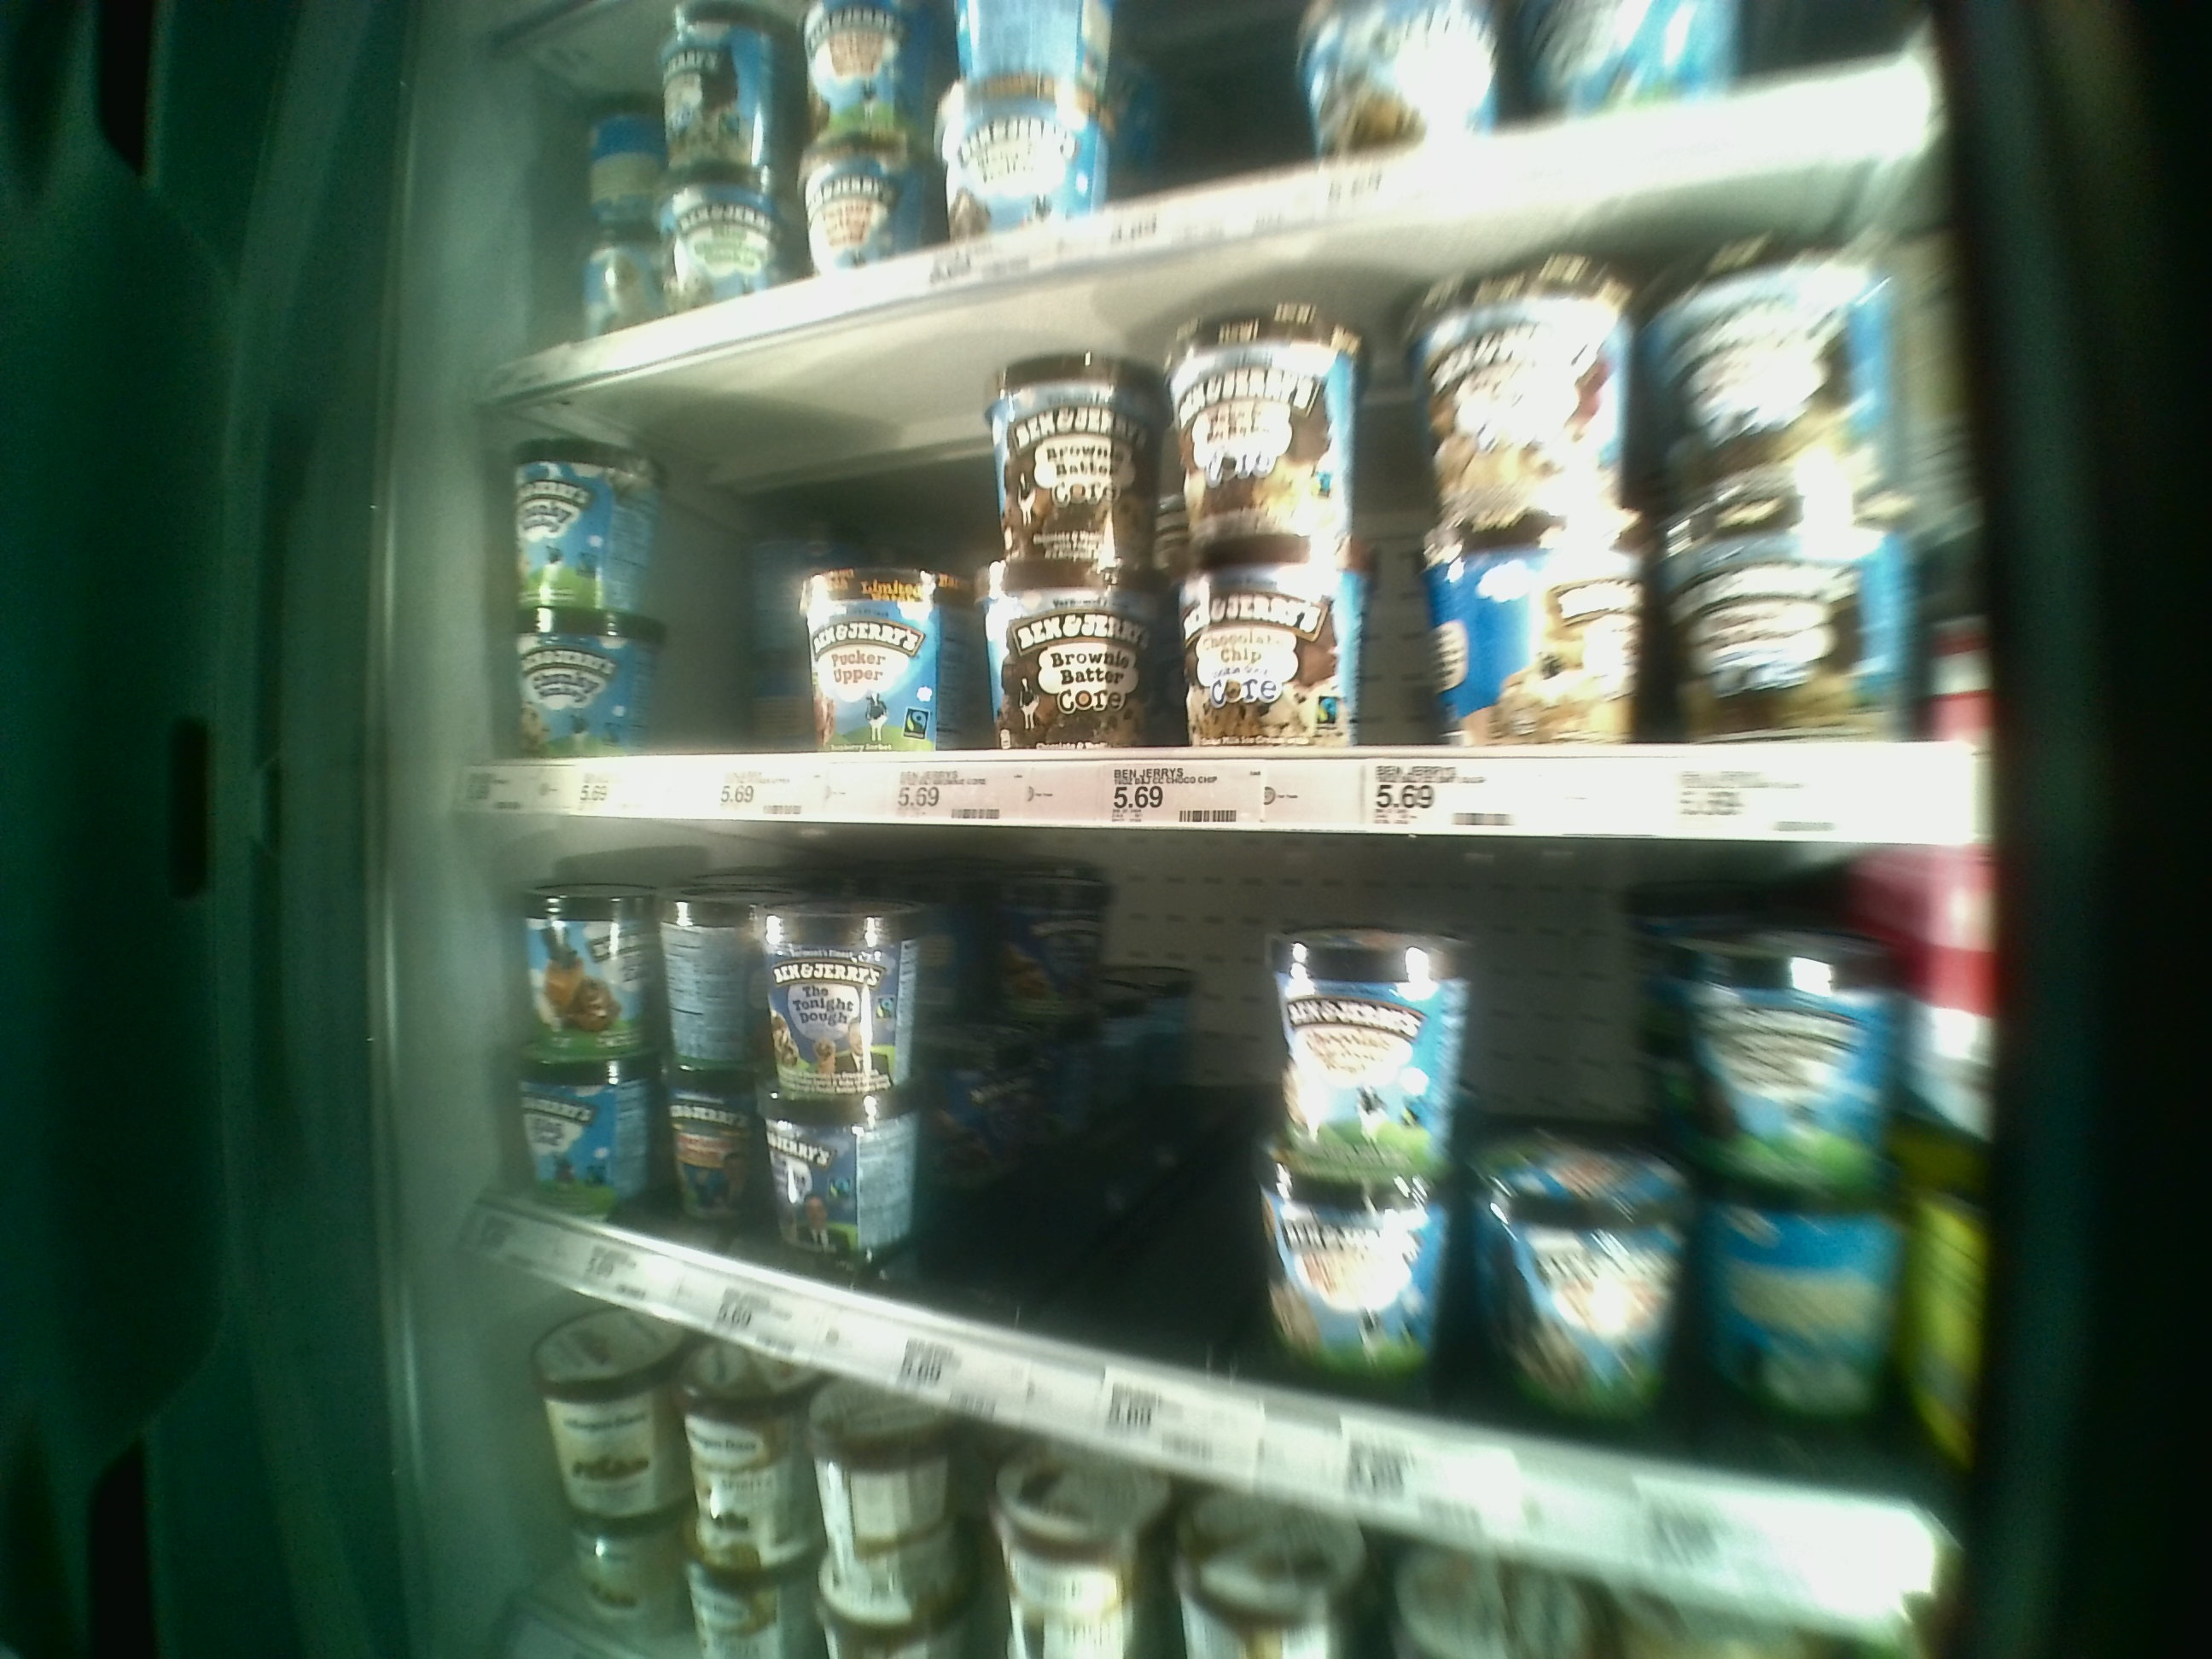shelf: (479, 157, 1986, 847)
